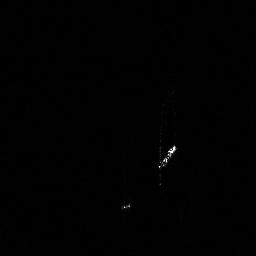ship: (154, 141, 180, 171)
